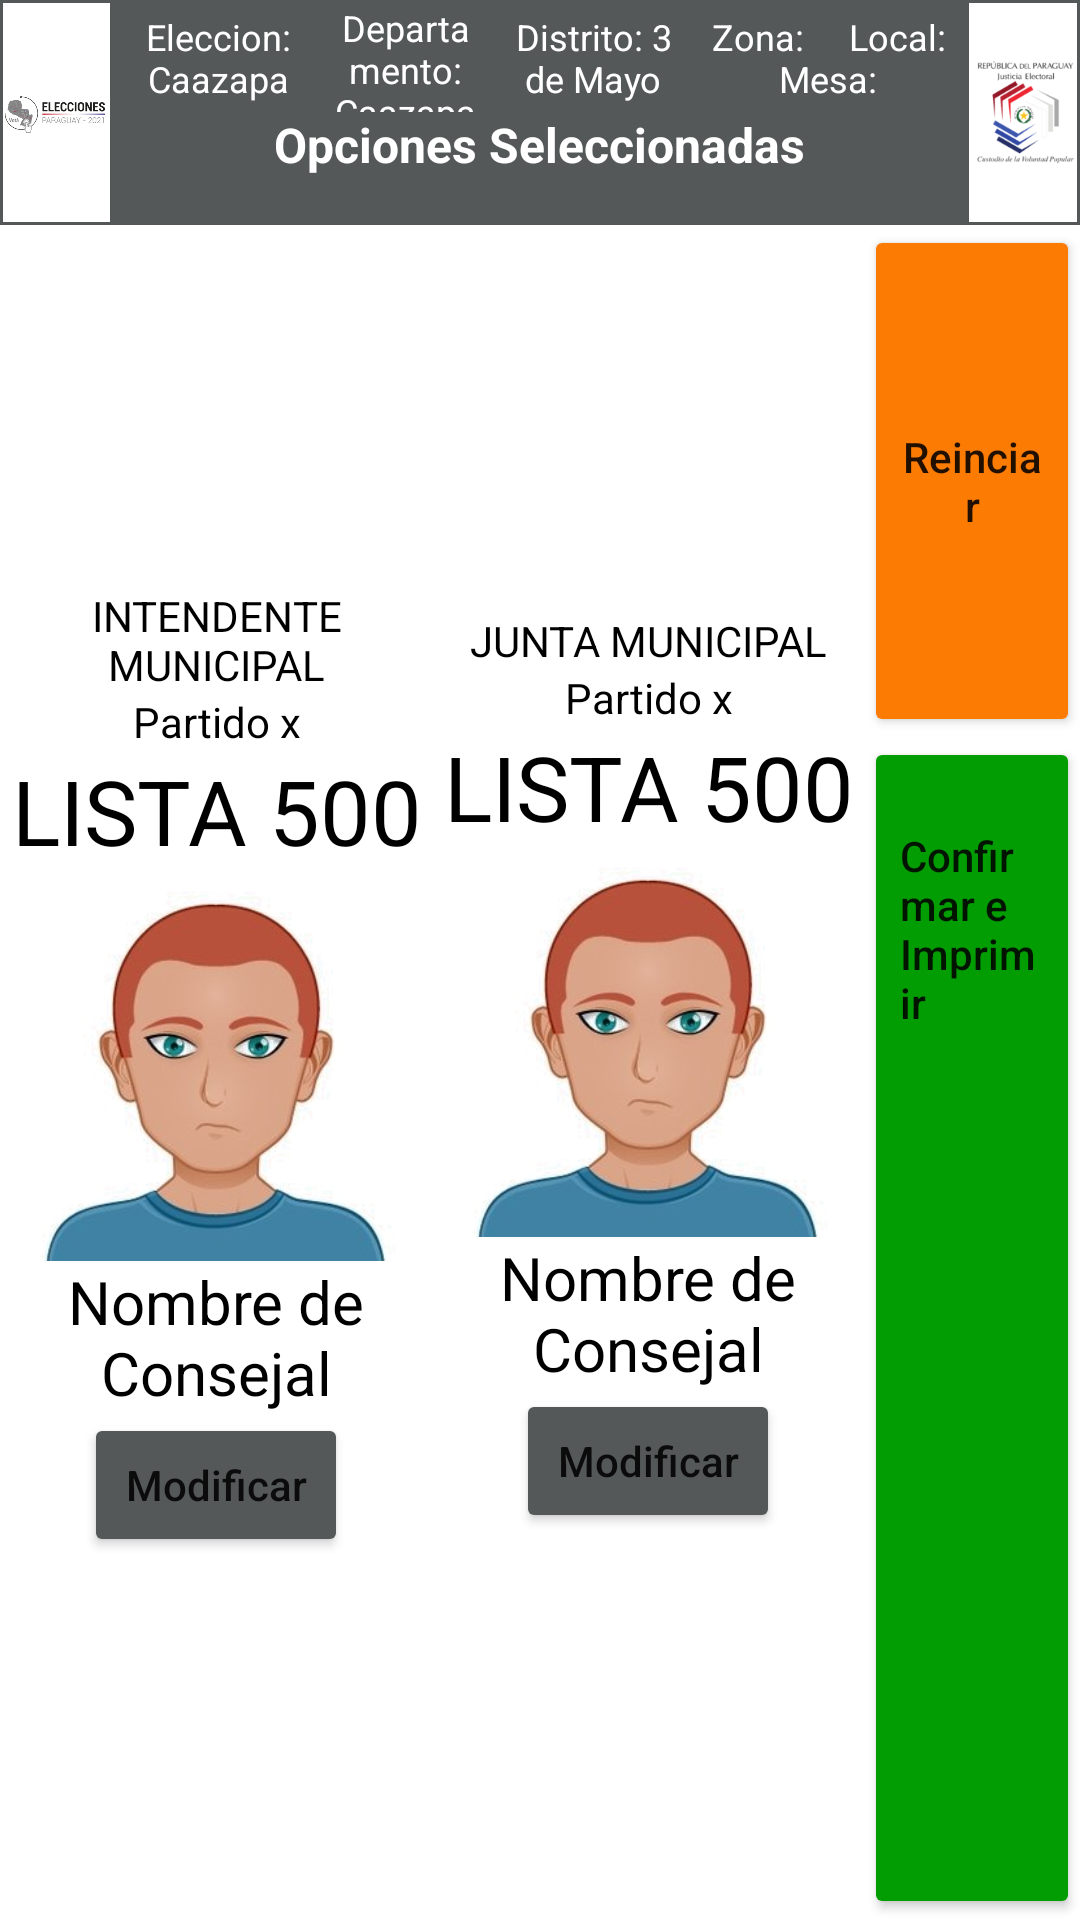

Screen size 1080*1920. Icon name, then its center in pixels as (x,y):
user: (647,1058), (215,1082)
